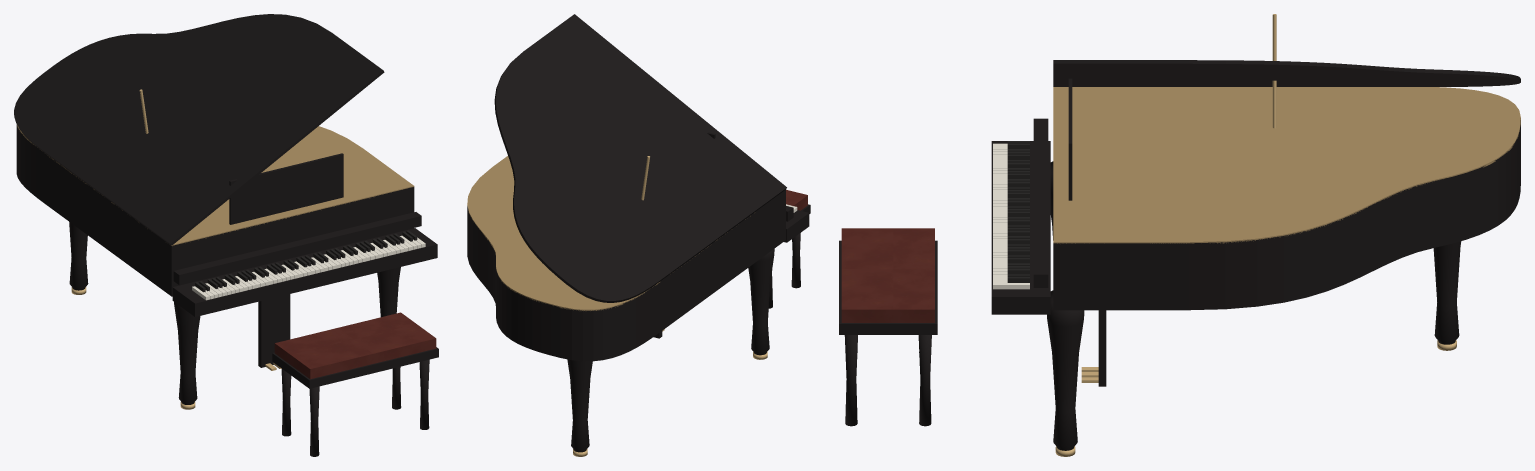
The model's file is piano.glb.
The picture shows the model from 3 angles, left to right: view 1: azimuth 30°, elevation 25°; view 2: azimuth 150°, elevation 25°; view 3: azimuth 270°, elevation 25°; orthographic projection. The views are drawn at different scales.
Parts seen in each view (by area): view 1: piano_tampa, piano_corpo, banco_assento, piano_friso, piano_teclado_base, piano_estante, piano_tampa_teclas, piano_lira, piano_perna, banco_moldura, piano_perna.002, piano_perna.001 (+3 smaller); view 2: piano_tampa, piano_corpo, piano_friso, piano_perna, piano_perna.002, piano_teclado_base, banco_perna.002; view 3: piano_friso, piano_corpo, piano_tampa, banco_assento, piano_perna.001, piano_teclado_base, piano_tampa_teclas, piano_perna.002, banco_moldura, banco_perna.001, banco_perna.003, piano_lira.
Part boxes in pixels (x1,y1,x2,y2): piano_tampa: (14, 14, 384, 245); piano_corpo: (16, 124, 414, 296); banco_assento: (274, 312, 436, 379); piano_friso: (17, 125, 414, 245); piano_teclado_base: (172, 228, 437, 316); piano_estante: (229, 153, 343, 224); piano_tampa_teclas: (173, 212, 421, 285); piano_lira: (258, 294, 290, 367); piano_perna: (174, 302, 200, 404); banco_moldura: (272, 347, 438, 388); piano_perna.002: (69, 222, 88, 290); piano_perna.001: (377, 267, 400, 317); piano_tampa: (494, 14, 786, 302); piano_corpo: (467, 189, 785, 361); piano_friso: (467, 156, 750, 310); piano_perna: (748, 248, 774, 355); piano_perna.002: (567, 359, 592, 452); piano_teclado_base: (784, 210, 809, 242); banco_perna.002: (791, 233, 800, 288); piano_friso: (1053, 87, 1520, 243); piano_corpo: (1053, 120, 1520, 310); piano_tampa: (1053, 60, 1520, 86); banco_assento: (841, 228, 934, 322); piano_perna.001: (1047, 290, 1084, 450); piano_teclado_base: (991, 141, 1050, 314); piano_tampa_teclas: (1033, 118, 1048, 287); piano_perna.002: (1433, 241, 1461, 344); banco_moldura: (839, 240, 937, 334); banco_perna.001: (918, 335, 931, 426); banco_perna.003: (844, 335, 857, 426); piano_lira: (1098, 310, 1106, 386).
Size of the model in its own units: 1.51 by 1.73 by 2.77.
6 materials, 1 textured.
